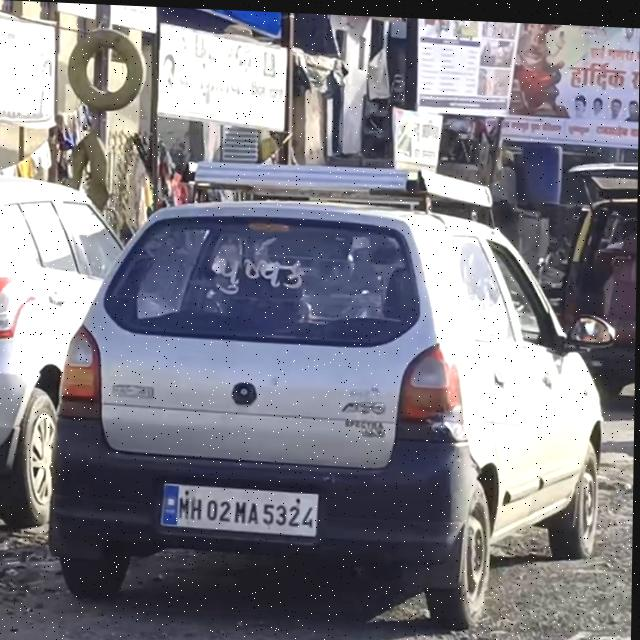plate: (160, 480, 321, 534)
